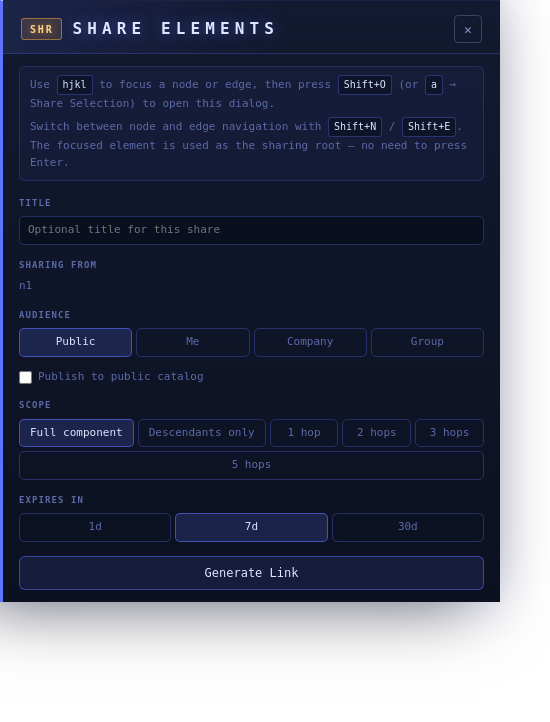
Test: ElementShareDialog – generate flow › surfaces the server message from a failed request
The image size is (550, 722).
Click the button with test id "generate-btn" at (252, 573), box [19, 556, 484, 590]
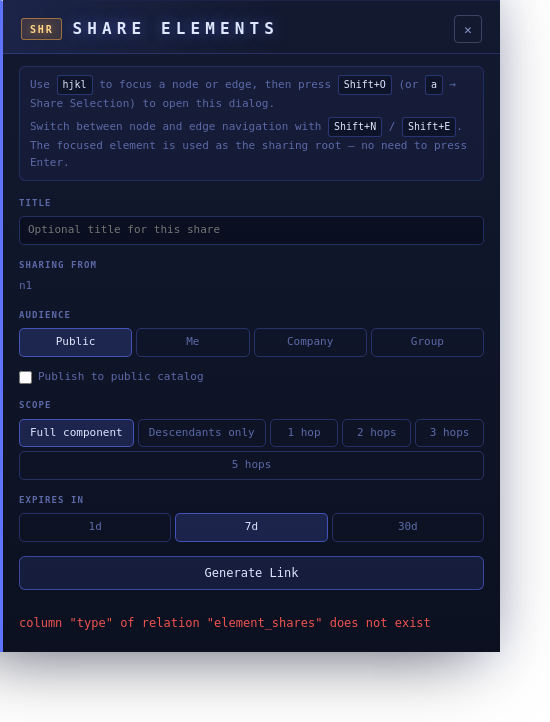
Expected: the text "column \"type\" of relation \"element_shares\" does not exist" is shown, [19, 616, 431, 630]
